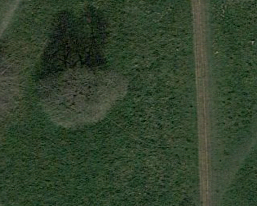tree: (36, 67, 136, 133)
